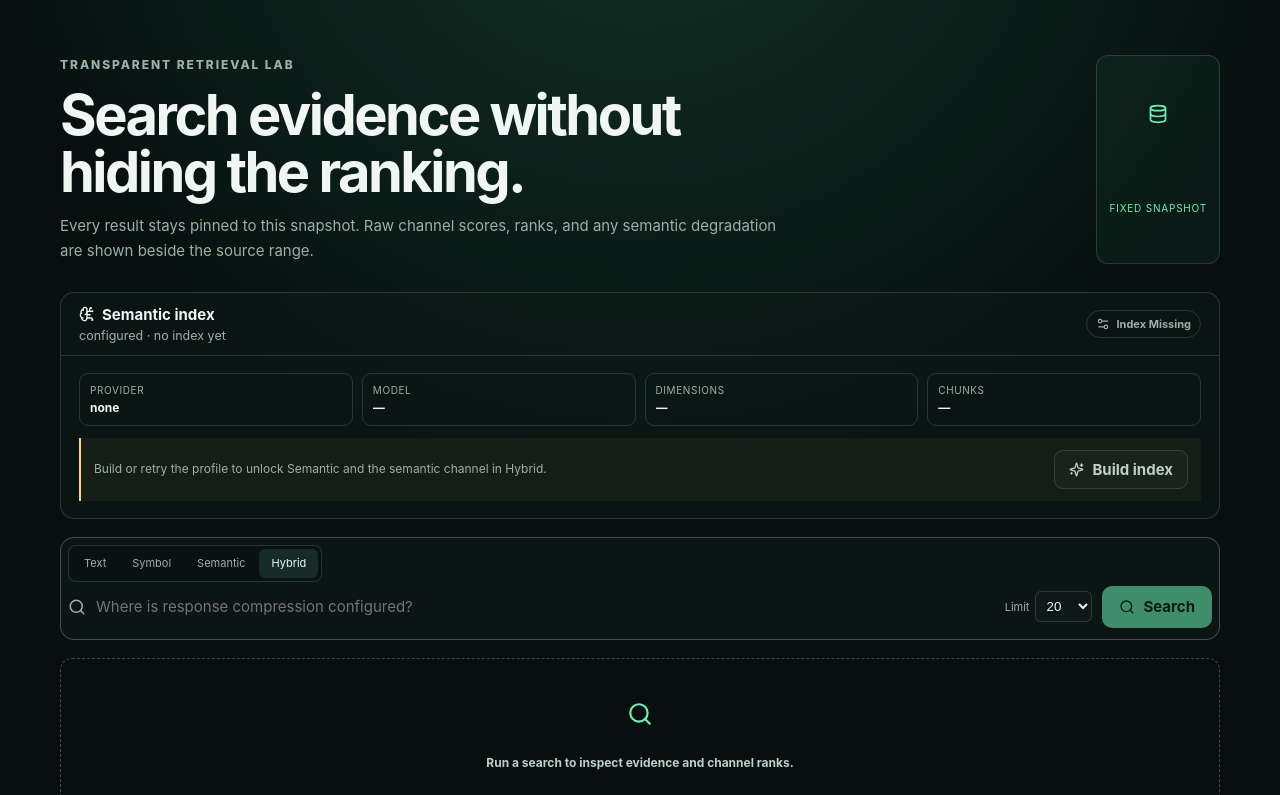
Test: RetrievalLab › builds a missing profile and exposes an immediate retry after failure
This screenshot has width=1280, height=795.
Click the button "Build index" at (1121, 469), box [1054,450,1188,489]
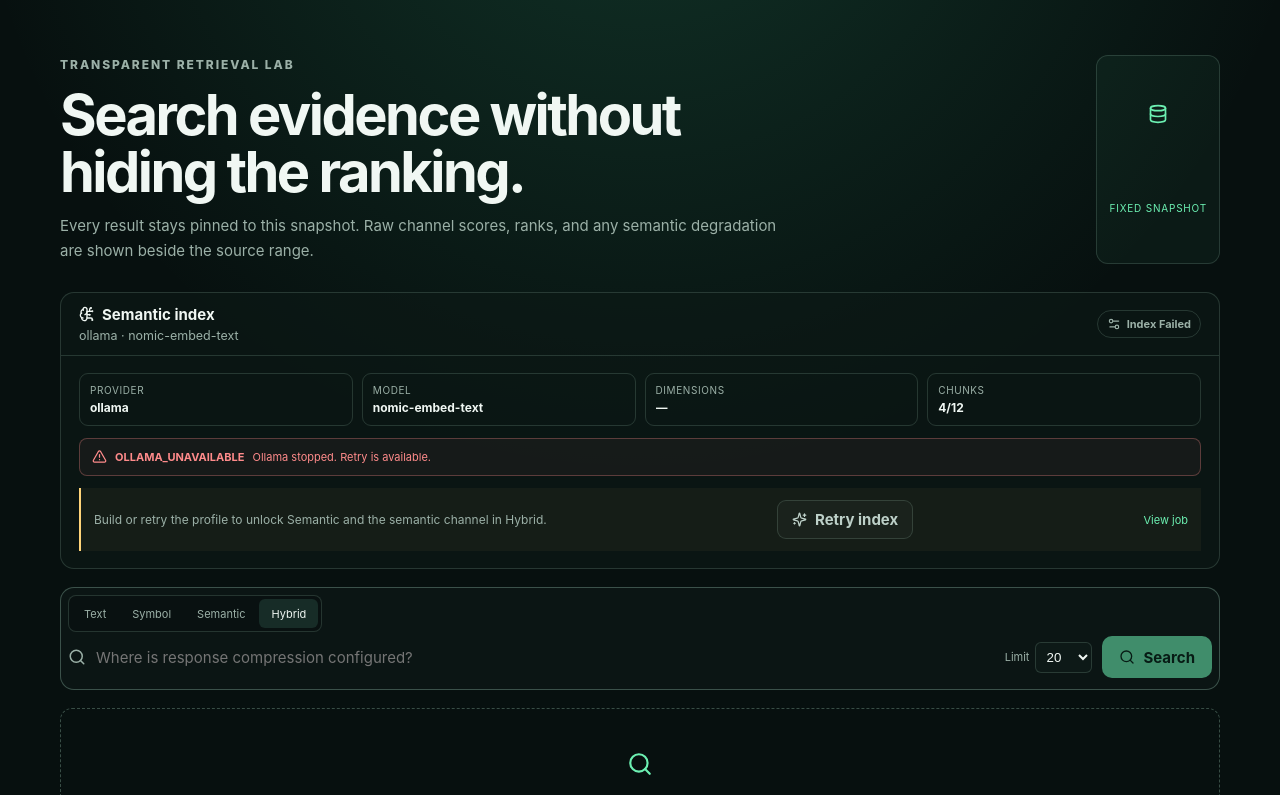
Click the button "Retry index" at (845, 520), box [777,500,913,539]
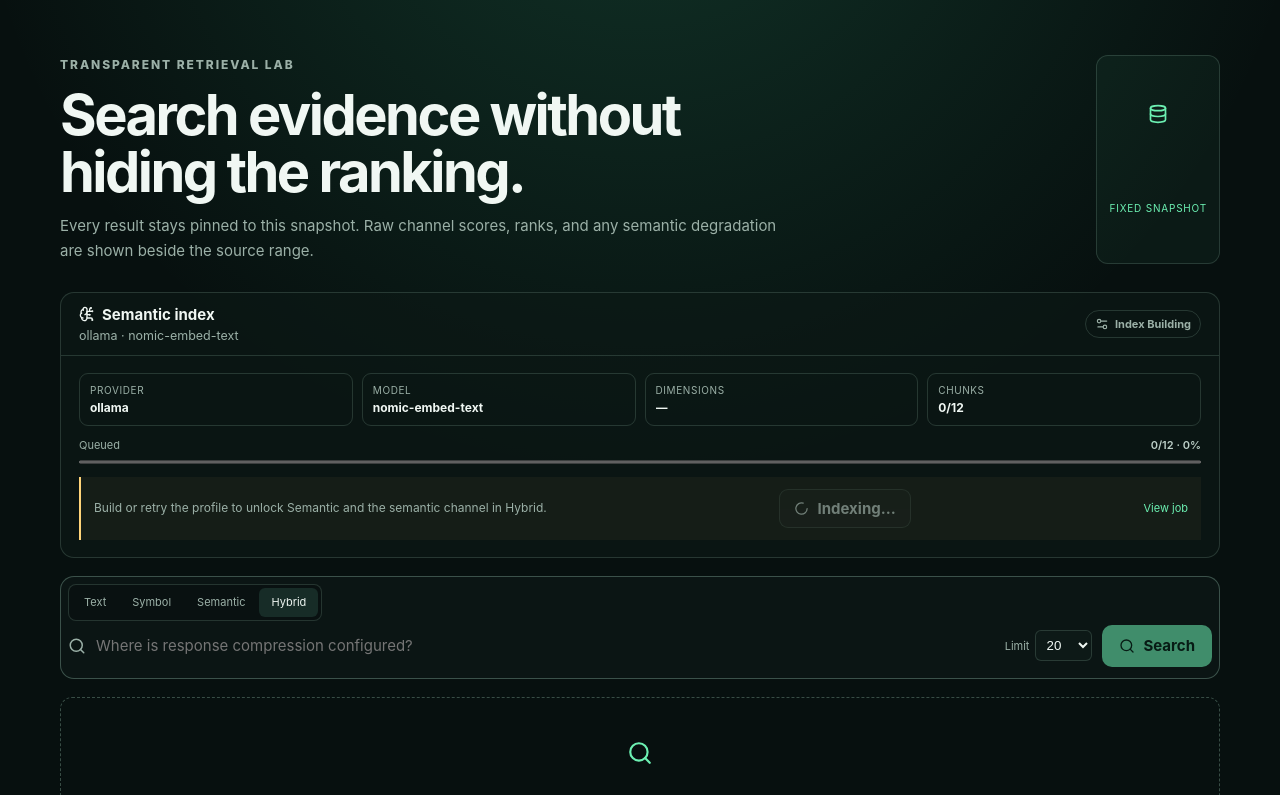
Check: the text "index building" is shown, box [1085,310,1201,338]
Check: the progress indicator named "Semantic index progress" holds "0", box [79,459,1201,465]
